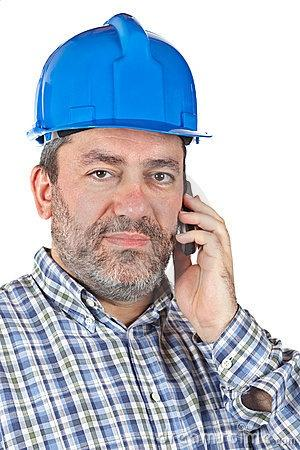helmet: (23, 8, 215, 303)
not_reflective: (0, 268, 300, 450)
